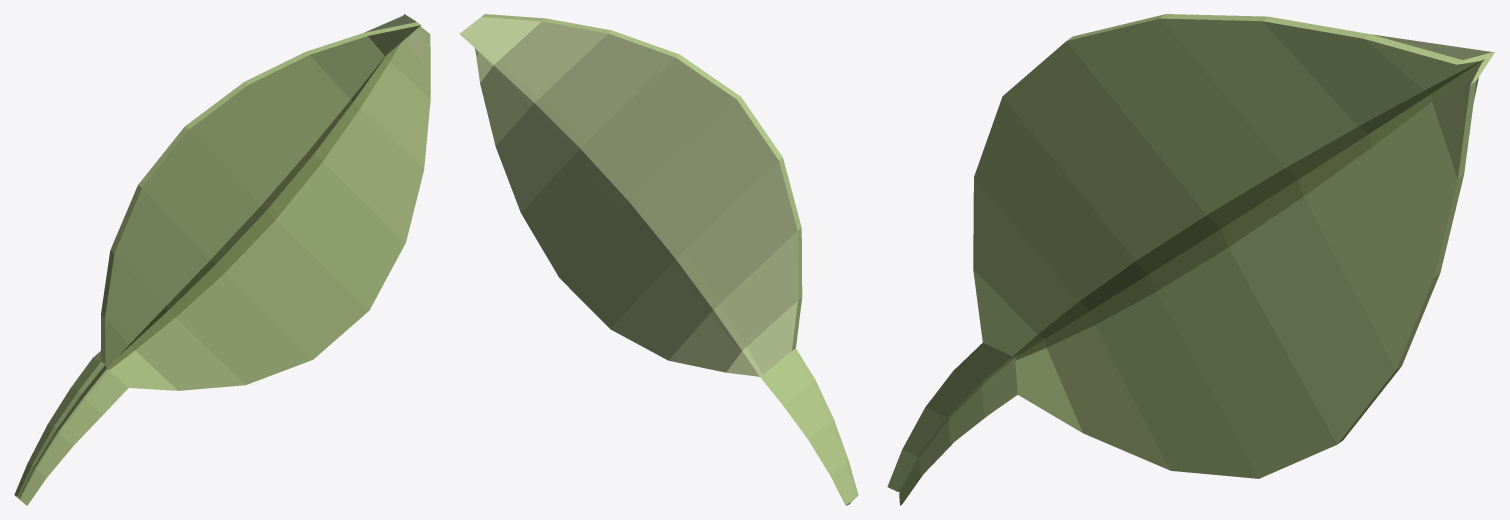
Rendered from hoja1.fbx.
3 renders of one model, left to right at view 1: azimuth 30°, elevation 25°; view 2: azimuth 150°, elevation 25°; view 3: azimuth 330°, elevation 25°, orthographic. The views are drawn at different scales.
Visible parts, largest first — view 1: hoja; view 2: hoja; view 3: hoja.
Boxes of the visible parts, <box> form: hoja: <box>14,14,430,505</box>; hoja: <box>460,14,858,505</box>; hoja: <box>887,14,1495,505</box>.
Size of the model in its own units: 19.85 by 19.07 by 3.31.
